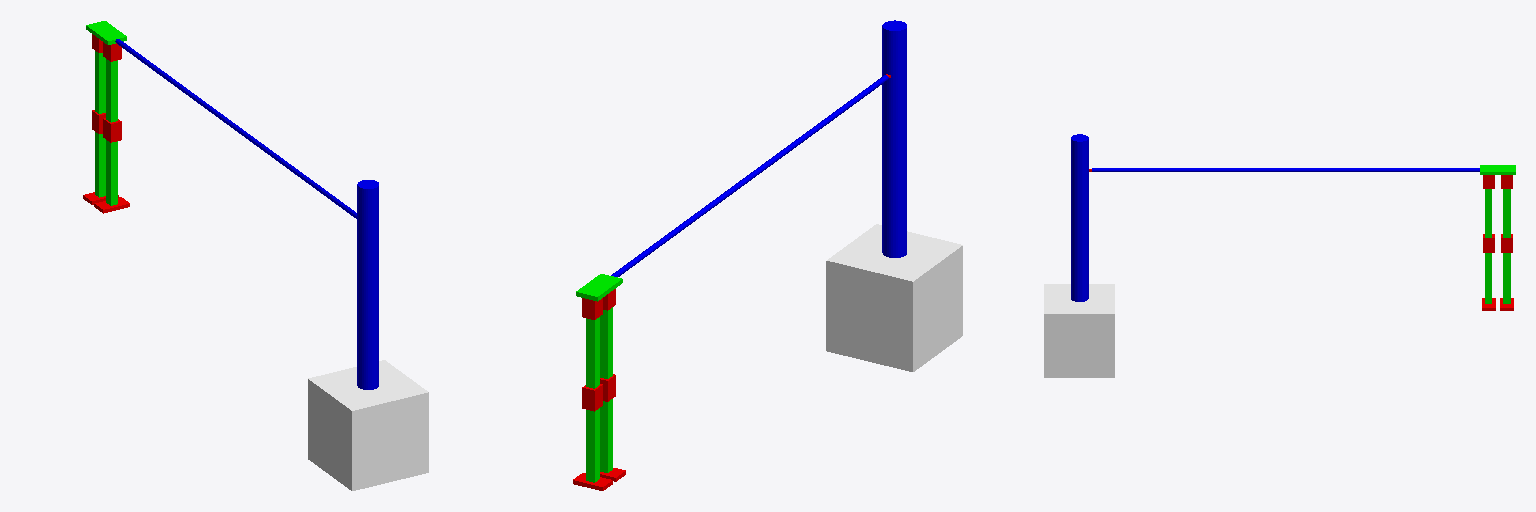
URDF robot description (BipedalRobot):
<?xml version="1.0"?>

<robot name="BipedalRobot">
  <link name="world_frame">
    <visual>
      <geometry>
         <box size=".2 .2 .2" />
      </geometry>
      <material name="blue">
	       <color rgba="1 1 1 1" />
      </material>
    </visual>
  </link>

  <joint name="world_to_base_boom_joint" type="fixed">
    <parent link="world_frame" />
    <child link="base_boom_link" />
    <axis xyz="1 0 0" /> 
    <origin xyz="0 0 0" rpy="0 0 0"/>
  </joint>

  <link name="base_boom_link">
    <visual>
      <origin xyz="0 0 0.3" rpy="0 0 0" />
      <geometry>
         <cylinder length="0.6" radius="0.025"/>
      </geometry>
      <material name="blue">
	       <color rgba="0 0 1 1" />
      </material>
    </visual>
  </link>

  <joint name="base_boom_to_link_boom_joint_z" type="fixed">
    <parent link="base_boom_link" />
    <child link="small_link_boom" />
    <!--<axis xyz="0 0 1" />-->
    <origin xyz="0 0 0.500" rpy="0 0 0"/>
    <dynamics damping="0" />
  </joint>

  <link name="small_link_boom">
    <inertial>
      <origin xyz="0 0.3 0" rpy="0 0 0" />
      <mass value="0" />
      <inertia ixx="0" ixy="0" ixz="0" iyy="0" iyz="0" izz="0" />
    </inertial> 
     <visual>
      <origin xyz="0 0.03 0" rpy="0 0 0" />
      <geometry>
         <box size=".01 0.01 .005" />
      </geometry>
      <material name="red">
	       <color rgba="1 0 0 1" />
      </material>
    </visual>
  </link>

  <joint name="base_boom_to_link_boom_joint_x" type="fixed">
    <parent link="small_link_boom" />
    <child link="boom_link" />
    <axis xyz="0 0 1" />
    <origin xyz="0 0.035 0" rpy="0 0 0"/>
    <dynamics damping="0" />
  </joint>

  <link name="boom_link">
    <inertial>
      <origin xyz="0 0.3 0" rpy="0 0 0" />
      <mass value="0" />
      <inertia ixx="0" ixy="0" ixz="0" iyy="0" iyz="0" izz="0" />
    </inertial>
     <visual>
      <origin xyz="0 0.5475 0" rpy="1.57079 0 0" />
      <geometry>
         <cylinder length="1.095" radius="0.006"/>
      </geometry>
      <material name="blue">
	       <color rgba="0 0 1 1" />
      </material>
    </visual>
  </link>
    <!--
  <joint name="boom_to_hip_joint" type="revolute">
    <parent link="boom_link" />
    <child link="hips_link" />
    <axis xyz="0 1 0" />
    <origin xyz="0 1.145 0" rpy="0 0 0"/>
    <dynamics damping="0" />
  </joint>
-->

  <joint name="boom_to_hip_joint" type="fixed">
    <parent link="boom_link" />
    <child link="hips_link" />
    <origin xyz="0 1.145 0" rpy="0 0 0"/>
  </joint>

  <link name="hips_link">
    <inertial>
      <origin xyz="0 0.0 0" rpy="0 0 0" />
      <mass value="0.00625" />
      <inertia ixx="5.2604166666667e-6" ixy="0" ixz="0" iyy="1.3541666666667e-6" iyz="0" izz="6.5104166666667e-6" />
    </inertial>
     <visual>
      <origin xyz="0 .00 0" rpy="0 0 0" />
      <geometry>
         <box size=".05 .1 .01" />
      </geometry>
      <material name="green">
	       <color rgba="0 1 0 1" />
      </material>
    </visual>
  </link>

  <joint name="l_hip_to_motor" type="fixed">
    <parent link="hips_link" />
    <child link="l_hip_motor" />
    <origin xyz="0 .026 -0.04025" rpy="0 0 0"/>
  </joint>

  <link name="l_hip_motor">
    <inertial>
      <origin xyz="0 .0 0.012" rpy="0 0 0" />
      <mass value="0.083" />
      <inertia ixx=" 5.96686e-5" ixy="-8.14034e-8" ixz="1.30798e-7" iyy="5.68819e-5" iyz="-1.96593e-6" izz="4.90513e-5" />
    </inertial>
    <visual>
      <origin xyz="0 0 0.012" rpy="0 0 0" />
      <geometry>
         <box size=".0285 .034 .0465 " />
      </geometry>
      <material name="red">
	       <color rgba="1 0 0 1" />
      </material>
    </visual>
  </link>

  <joint name="l_hip" type="revolute">
    <parent link="l_hip_motor" />
    <child link="l_thigh_link" />
    <origin xyz="0 0 0" rpy="0 0 0" />
    <axis xyz="0 1 0" />
    <limit effort="3.4" lower="-1.57" upper="1.57" velocity="3.1415"/>
     <dynamics damping="1" />
    <safety_controller k_velocity="10" k_position="15" soft_lower_limit="-2.0" soft_upper_limit="0.5" />
  <!----></joint>

  <link name="l_thigh_link">
    <inertial>
      <origin xyz="0 0 -.088625" rpy="0 0 0" />
      <mass value=".118" />
      <inertia ixx="2.39417e-4" ixy="0" ixz="0" iyy="2.39417e-4" iyz="0" izz="7.867e-6" />
    </inertial>
    <visual>
      <origin xyz="0 0 -.088625" rpy="0 0 0" />
      <geometry>
         <box size=".02 .02 .15475" />
      </geometry>
      <material name="green">
	       <color rgba="0 1 0 1" />
      </material>
    </visual>
  </link>

  <joint name="l_thigh_link_to_motor" type="fixed">
    <parent link="l_thigh_link" />
    <child link="l_thigh_motor" />
    <origin xyz="0 0 -0.20125 " rpy="0 0 0"/>
  </joint>

  <link name="l_thigh_motor">
    <inertial>
      <origin xyz="0 0 0.012" rpy="0 0 0" />
      <mass value="0.083" />
      <inertia ixx="5.9855e-5" ixy="-7.46977e-8" ixz="1.208e-7" iyy=" 5.70714e-5" iyz="-1.92993e-6" izz="4.91179e-5" />
    </inertial>
    <visual>
      <origin xyz="0 0 0.012" rpy="0 0 0" />
      <geometry>
         <box size=".0285 .034 .0465 " />
      </geometry>
      <material name="red">
	       <color rgba="1 0 0 1" />
      </material>
    </visual>
  </link>

  <joint name="l_knee" type="revolute">
    <parent link="l_thigh_motor" />
    <child link="l_leg_link" />
    <origin xyz="0 0 0.0" />
    <axis xyz="0 1 0" />
    <limit effort="2.5" lower="-1.57" upper="1.57" velocity="5.23"/>
    <dynamics damping="1" />
    <safety_controller k_velocity="10" k_position="15" soft_lower_limit="-2.0" soft_upper_limit="0.5" />
  <!----></joint>


  <link name="l_leg_link">
    <inertial>
      <origin xyz="0 0 -0.091625" rpy="0 0 0" />
      <mass value="0.1" />
      <inertia ixx="2.18671e-4" ixy="0" ixz="0" iyy="2.18671e-4" iyz="0" izz="6.667e-6" />
    </inertial>
    <visual>
      <origin xyz="0 0 -0.091625" rpy="0 0 0" />
      <geometry>
         <box size=".02 .02 .16075" />
      </geometry>
      <material name="green">
	       <color rgba="0 1 0 1" />
      </material>
    </visual>
  </link>

  <joint name="l_ankle" type="revolute">
    <parent link="l_leg_link" />
    <child link="l_foot_link" />
    <origin xyz="0 0 -.172" />
    <axis xyz="0 1 0" />
    <limit effort="1000.0" lower="-0.785" upper="0.785" velocity="5.26"/>
    <dynamics damping="10" />
    <safety_controller k_velocity="10" k_position="15" soft_lower_limit="-2.0" soft_upper_limit="0.5" />
  <!---->
  </joint>


  <link name="l_foot_link">
    <inertial>
      <origin xyz="0 0 -0.0045" rpy="0 0 0" />
      <mass value="0.041" />
      <inertia ixx="5.7434e-6" ixy="0" ixz="0" iyy="1.7018e-5" iyz="0" izz="2.2208e-5" />
    </inertial>
    <visual>
      <origin xyz="0 0 -0.0045" rpy="0 0 0" />
        <geometry>
            <box size=".07 .04 0.009" />
        </geometry>
      <material name="red">
	       <color rgba="1 0 0 1" />
      </material>
    </visual>

  </link>
    <joint name="r_hip_to_motor" type="fixed">
    <parent link="hips_link" />
    <child link="r_hip_motor" />
    <origin xyz="0 -.026 -0.04025" rpy="0 0 0"/>
  </joint>

  <link name="r_hip_motor">
    <inertial>
      <origin xyz="0 .0 0.012" rpy="0 0 0" />
      <mass value="0.083" />
      <inertia ixx=" 5.96686e-5" ixy="-8.14034e-8" ixz="1.30798e-7" iyy="5.68819e-5" iyz="-1.96593e-6" izz="4.90513e-5" />
    </inertial>
    <visual>
      <origin xyz="0 0 0.012" rpy="0 0 0" />
      <geometry>
         <box size=".0285 .034 .0465 " />
      </geometry>
      <material name="red">
	       <color rgba="1 0 0 1" />
      </material>
    </visual>
  </link>

  <joint name="r_hip" type="revolute">
    <parent link="r_hip_motor" />
    <child link="r_thigh_link" />
    <origin xyz="0 0 0" />
    <axis xyz="0 1 0" rpy="0 0 0"/>
    <limit effort="3.4" lower="-1.57" upper="1.57" velocity="3.1415"/>
    <dynamics damping="1" />
     <safety_controller k_velocity="10" k_position="15" soft_lower_limit="-2.0" soft_upper_limit="0.5" />
  <!----></joint>

  <link name="r_thigh_link">
    <inertial>
      <origin xyz="0 0 -.088625" rpy="0 0 0" />
      <mass value=".118" />
      <inertia ixx="2.39417e-4" ixy="0" ixz="0" iyy="2.39417e-4" iyz="0" izz="7.867e-6" />
    </inertial>
    <visual>
      <origin xyz="0 0 -.088625" rpy="0 0 0" />
      <geometry>
         <box size=".02 .02 .15475" />
      </geometry>
      <material name="green">
	       <color rgba="0 1 0 1" />
      </material>
    </visual>
  </link>

  <joint name="r_thigh_link_to_motor" type="fixed">
    <parent link="r_thigh_link" />
    <child link="r_thigh_motor" />
    <origin xyz="0 0 -0.20125 " rpy="0 0 0"/>
  </joint>

  <link name="r_thigh_motor">
    <inertial>
      <origin xyz="0 0 0.012" rpy="0 0 0" />
      <mass value="0.083" />
      <inertia ixx="5.9855e-5" ixy="-7.46977e-8" ixz="1.208e-7" iyy=" 5.70714e-5" iyz="-1.92993e-6" izz="4.91179e-5" />
    </inertial>
    <visual>
      <origin xyz="0 0 0.012" rpy="0 0 0" />
      <geometry>
         <box size=".0285 .034 .0465 " />
      </geometry>
      <material name="red">
	       <color rgba="1 0 0 1" />
      </material>
    </visual>
  </link>

  <joint name="r_knee" type="revolute">
    <parent link="r_thigh_motor" />
    <child link="r_leg_link" />
    <origin xyz="0 0 0.0" />
    <axis xyz="0 1 0" />
    <limit effort="2.5" lower="-1.57" upper="1.57" velocity="5.23"/>
    <dynamics damping="1" />
      <safety_controller k_velocity="10" k_position="15" soft_lower_limit="-2.0" soft_upper_limit="0.5" />
  <!----></joint>


  <link name="r_leg_link">
    <inertial>
      <origin xyz="0 0 -0.091625" rpy="0 0 0" />
      <mass value="0.1" />
      <inertia ixx="2.18671e-4" ixy="0" ixz="0" iyy="2.18671e-4" iyz="0" izz="6.667e-6" />
    </inertial>
    <visual>
      <origin xyz="0 0 -0.091625" rpy="0 0 0" />
      <geometry>
         <box size=".02 .02 .16075" />
      </geometry>
      <material name="green">
	       <color rgba="0 1 0 1" />
      </material>
    </visual>
  </link>

  <joint name="r_ankle" type="revolute">
    <parent link="r_leg_link" />
    <child link="r_foot_link" />
    <origin xyz="0 0 -.172" />
    <axis xyz="0 1 0" />
    <limit effort="1000.0" lower="-0.785" upper="0.785" velocity="5.26"/>
    <dynamics damping="10" />
    <safety_controller k_velocity="10" k_position="15" soft_lower_limit="-2.0" soft_upper_limit="0.5" />
  <!---->
  </joint>

  <link name="r_foot_link">
    <inertial>
      <origin xyz="0 0 -0.0045" rpy="0 0 0" />
      <mass value="0.041" />
      <inertia ixx="5.7434e-6" ixy="0" ixz="0" iyy="1.7018e-5" iyz="0" izz="2.2208e-5" />
    </inertial>
    <visual>
      <origin xyz="0 0 -0.0045" rpy="0 0 0" />
        <geometry>
            <box size=".07 .04 0.009" />
        </geometry>
      <material name="red">
	       <color rgba="1 0 0 1" />
      </material>
    </visual>
  </link>
  <!-- -->
</robot>

--- What the picture shows (computed from the rendered views, not written in the file) ---
3 views of the same robot in one strip: view 1: azimuth 30°, elevation 25°; view 2: azimuth 150°, elevation 25°; view 3: azimuth 270°, elevation 25° (orthographic).
Robot: BipedalRobot — 15 links, 14 joints (6 revolute, 8 fixed); root link world_frame; default pose: all joints at 0.
Links seen in each view (by area): view 1: world_frame, base_boom_link, boom_link, r_leg_link, r_thigh_link, l_leg_link, l_thigh_link, hips_link; view 2: world_frame, base_boom_link, boom_link, l_leg_link, l_thigh_link, r_leg_link, r_thigh_link, hips_link; view 3: world_frame, base_boom_link, boom_link.
Boxes of the visible links, x1,y1,x2,y2 form: world_frame: (308,360,428,490); base_boom_link: (357,180,378,389); boom_link: (115,39,356,218); r_leg_link: (106,140,117,205); r_thigh_link: (106,59,117,122); l_leg_link: (95,132,105,197); l_thigh_link: (95,51,105,113); hips_link: (86,21,126,44); world_frame: (826,224,962,371); base_boom_link: (882,20,906,257); boom_link: (611,75,888,276); l_leg_link: (586,408,599,482); l_thigh_link: (586,317,599,388); r_leg_link: (600,399,612,472); r_thigh_link: (600,307,612,378); hips_link: (576,274,622,301); world_frame: (1044,284,1114,377); base_boom_link: (1071,134,1088,301); boom_link: (1092,168,1479,171).
Size in the robot's own frame: 0.2 by 1.33 by 0.7 metres.
Geometry: primitives only (box / cylinder / sphere), no mesh files.
